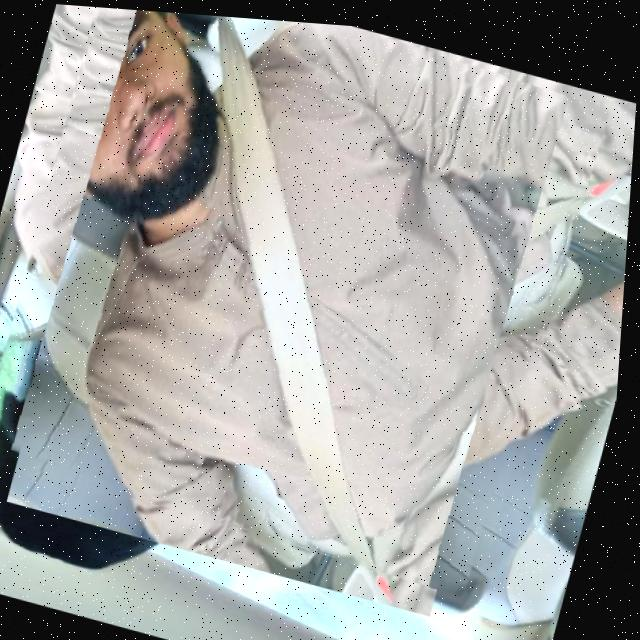seatbelt: (0, 0, 613, 595)
